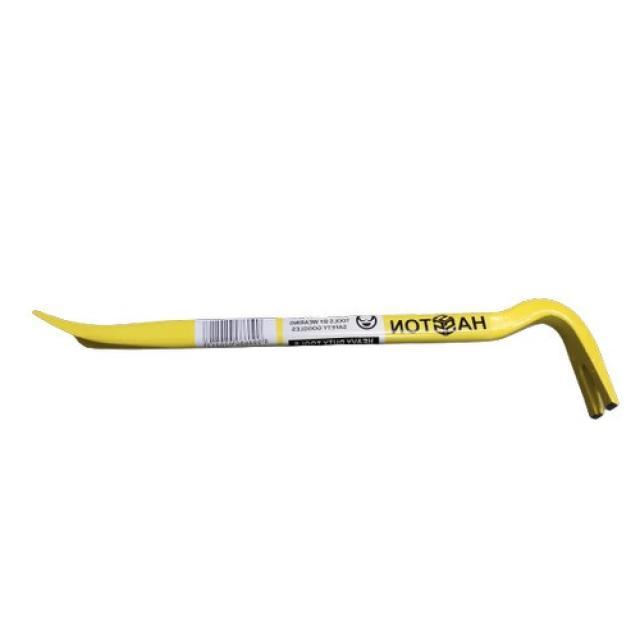Linggis: (34, 290, 623, 426)
